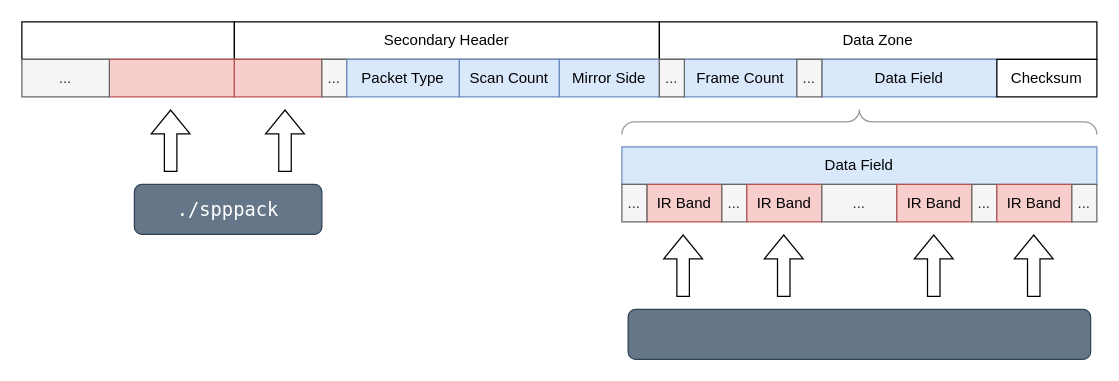
Image size: 1119x381. Some labels were removed from this diagram. The centre of each missing label's shape, as x and y in pixels:
"./modismaskfires" goes at point (859, 333).
"Packet Length" goes at point (171, 77).
"Primary Header" goes at point (127, 40).
"Time Tag" goes at point (277, 77).
